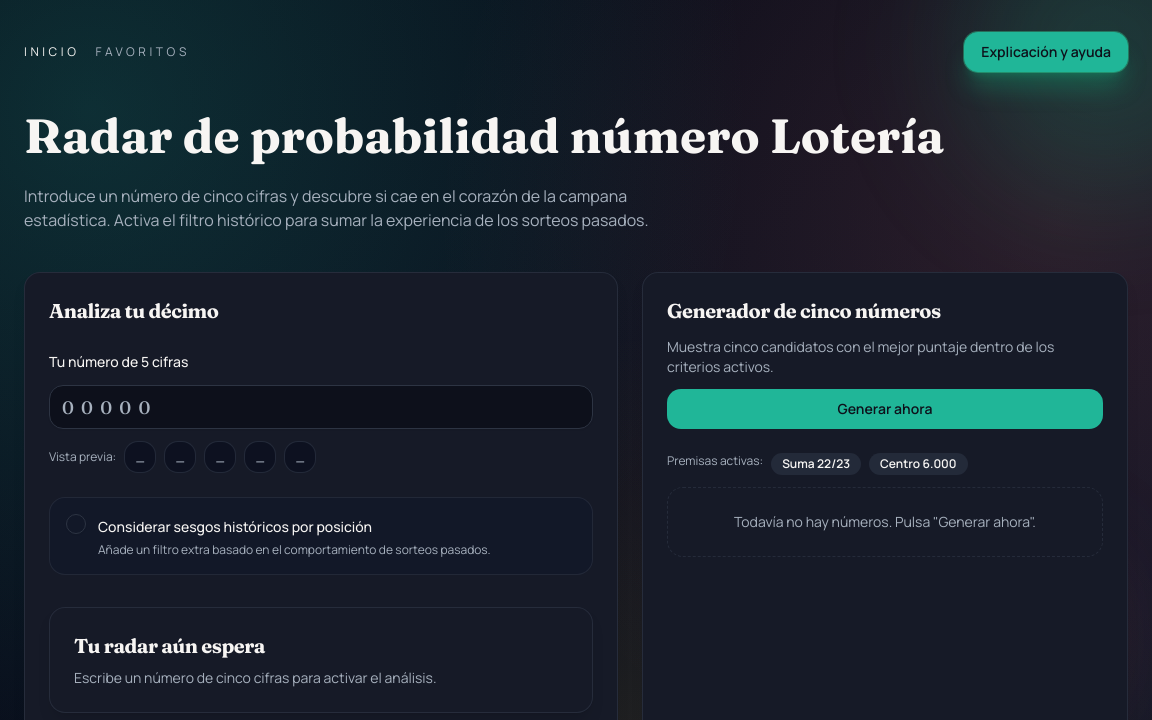
Scenario: App › shows evaluation for a valid number
Step 1. Type "06584" into the field labelled "Tu número de 5 cifras" → [321, 407], box [49,385,593,429]
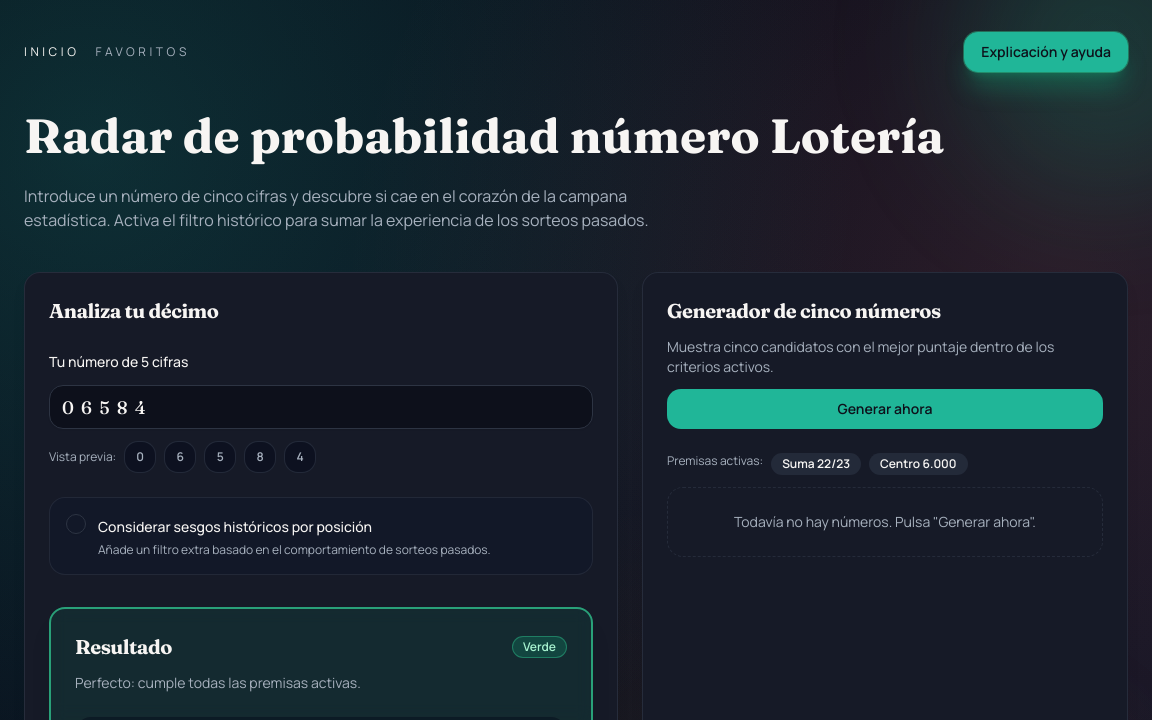
Check: the text "Perfecto: cumple todas las premisas activas." is shown, box [75,673,361,692]
